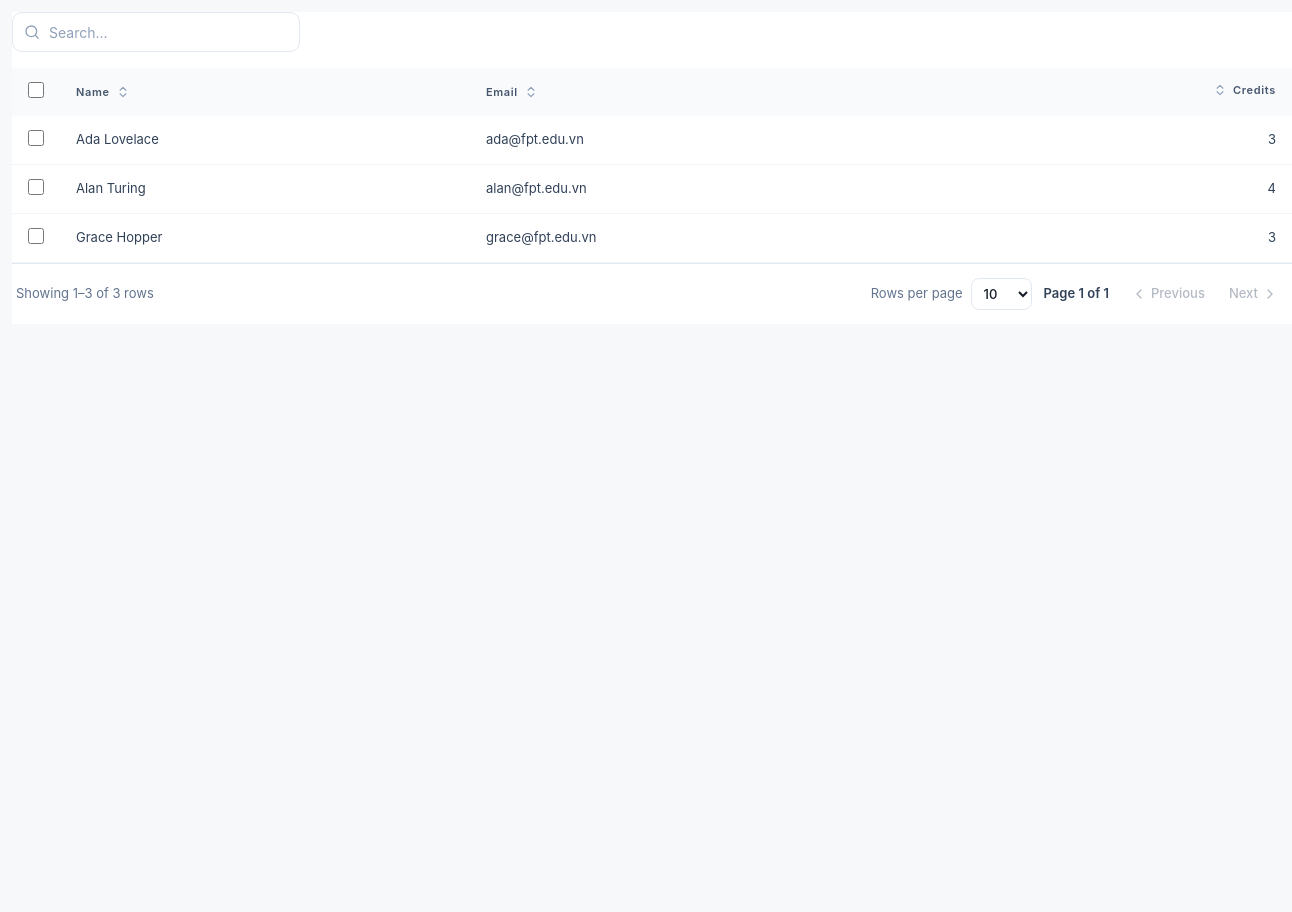
Test: DataTable › selects every row from the header checkbox
The width and height of the screenshot is (1292, 912).
Step 1. Click the checkbox named "Select all" → [36, 90], box [28,82,44,98]
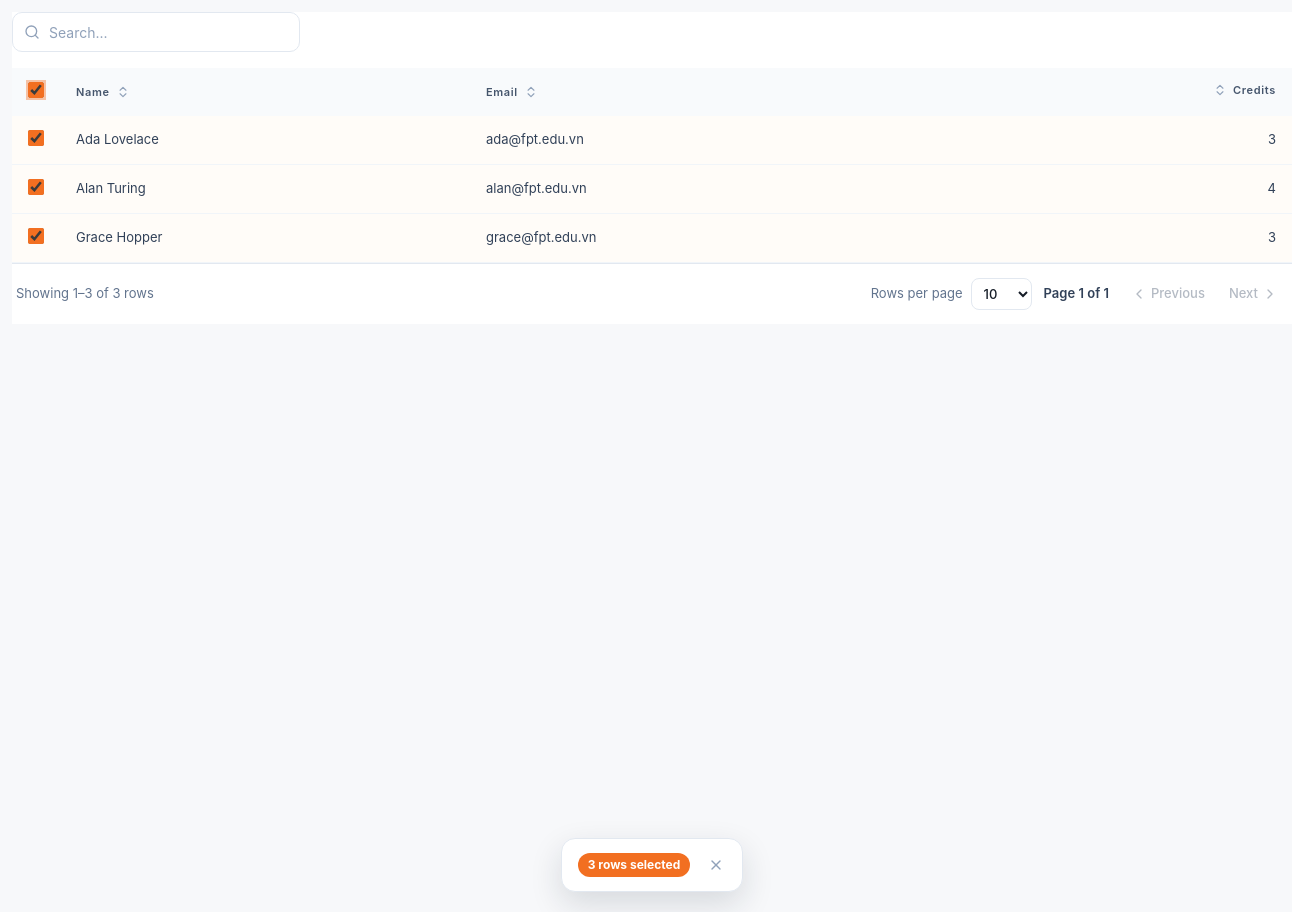
Expected: the text "3 rows selected" is shown, [578,853,690,877]
